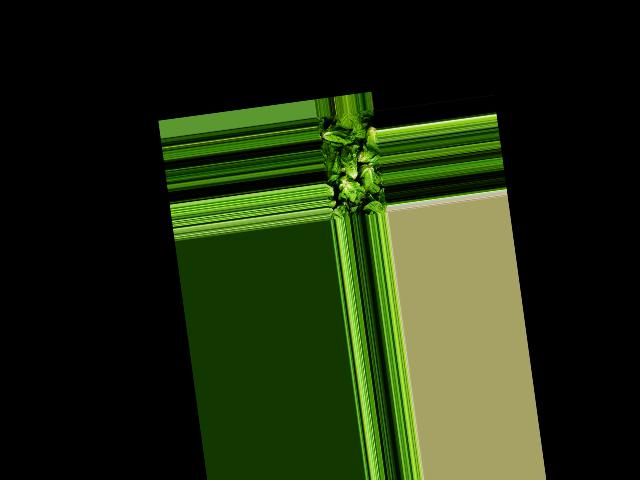lettuce: (362, 121, 379, 157)
